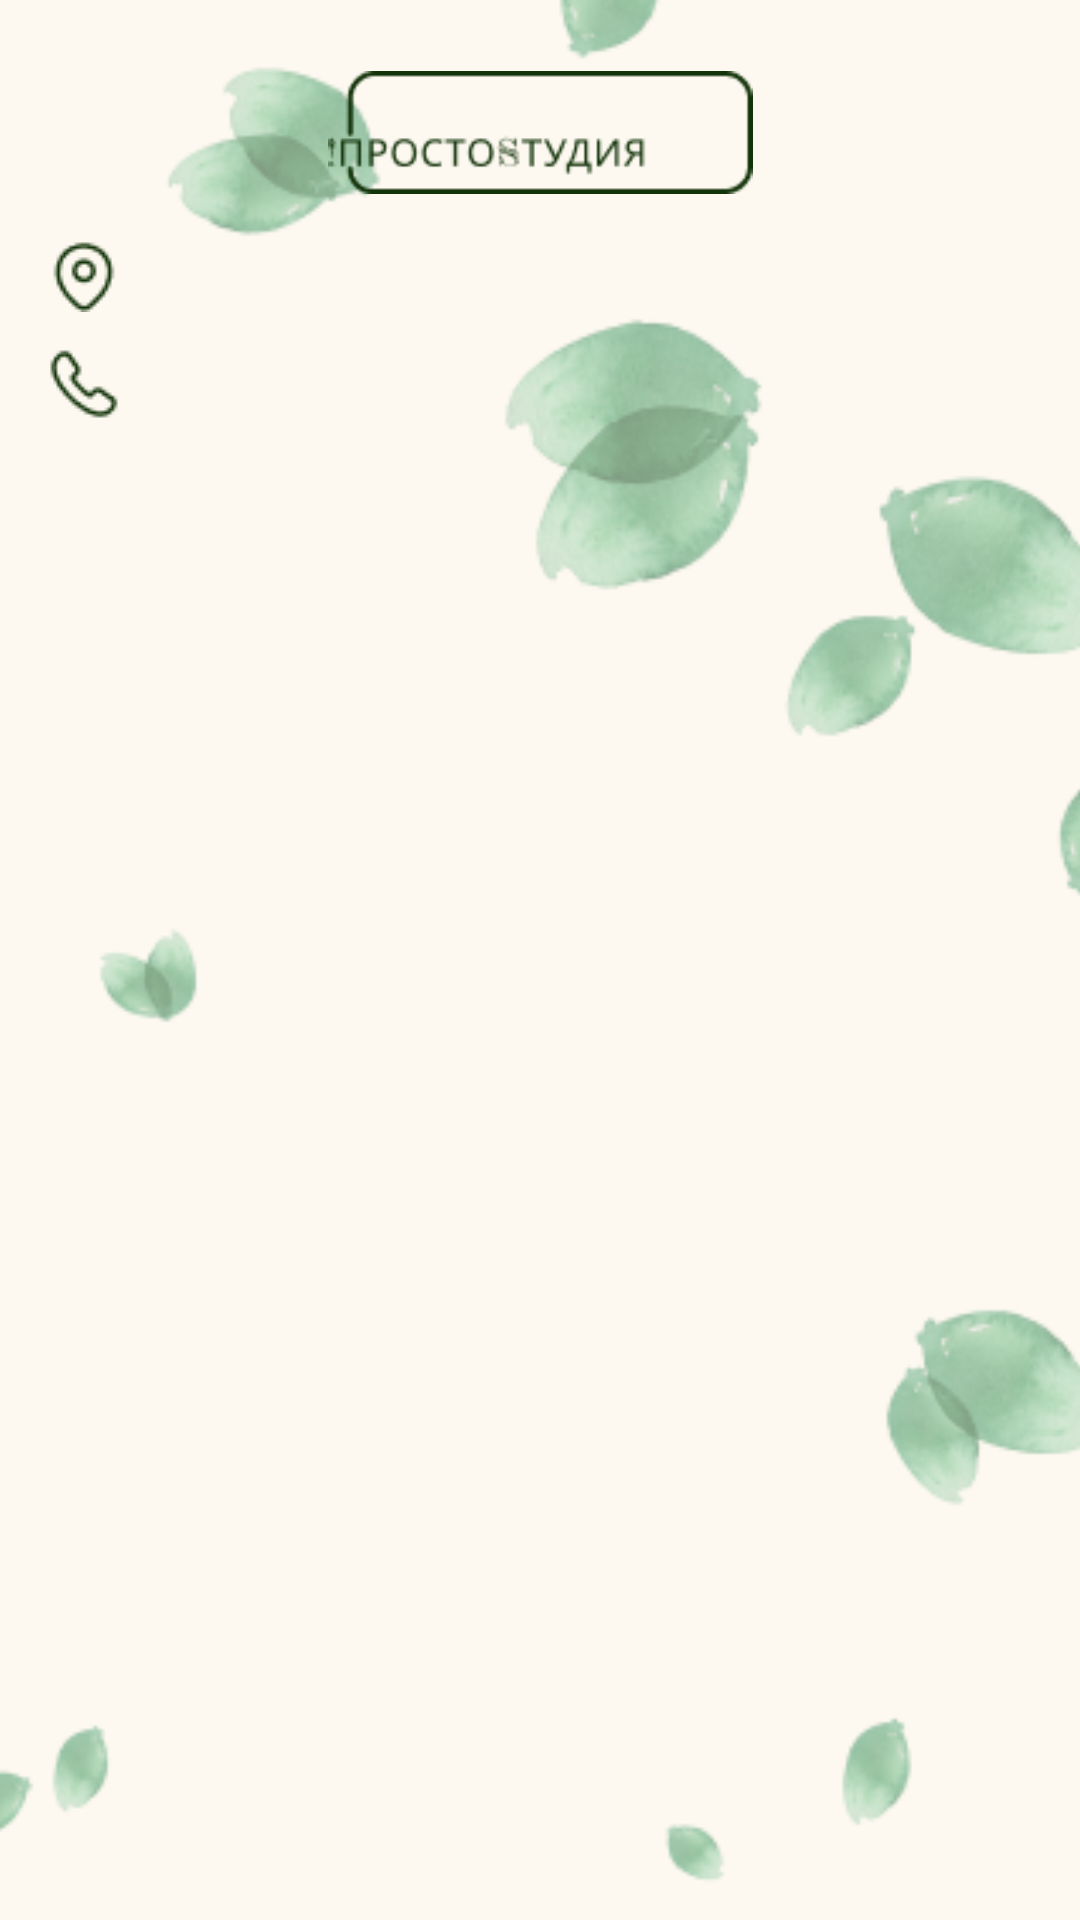

Locate icon controls on the screen. Image size 1080 × 1920, boxes as bbox=[x1, y1, x2, y2].
call: bbox=[50, 350, 118, 418]
location: bbox=[53, 242, 115, 312]
